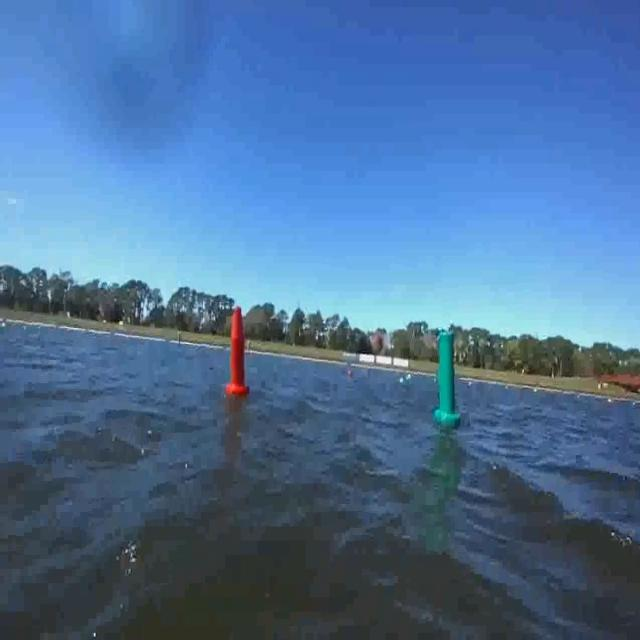green-column-buoy: (435, 332, 463, 427)
red-column-buoy: (227, 303, 250, 396)
